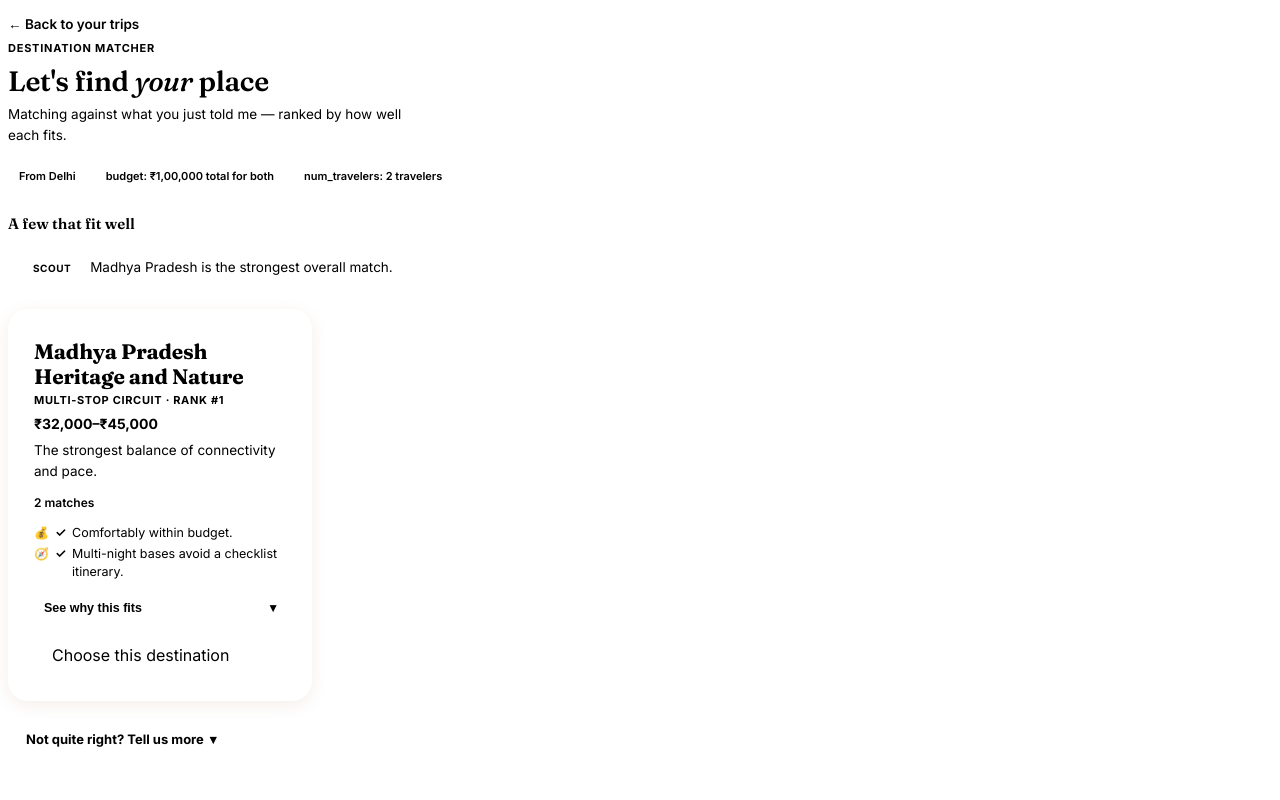
Test: Destinations (real Meridian integration) › the refinement drawer sends a plain traveler_message with the typed text
Expected: the button "Madhya Pradesh Heritage and Nature" is shown, [34,339,286,390]
Step 1. Click the button "Not quite right? Tell us more ▾" → (121,740), box [8,720,234,760]
(page scrolled)
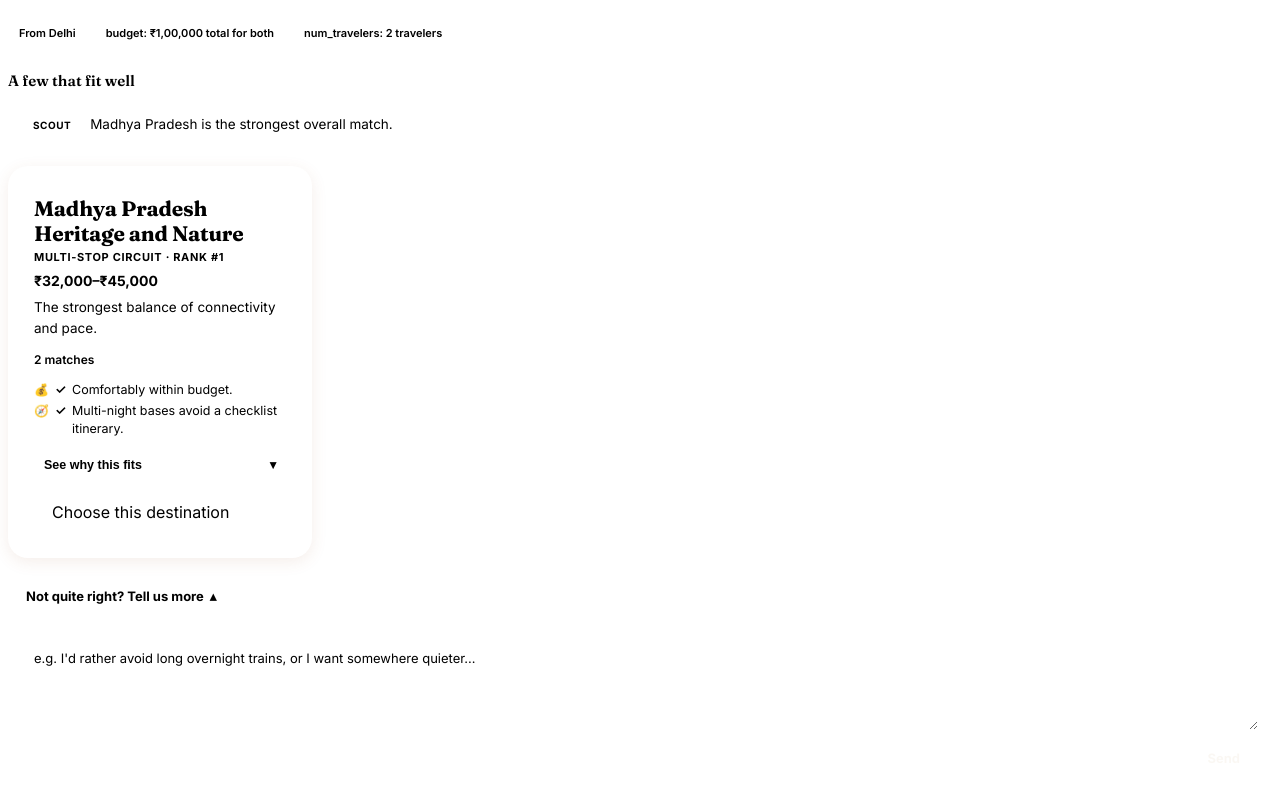
Step 2. Replace the text in the text box named "Tell us more" with "cheaper, closer" → (640,686), box [22,640,1258,730]
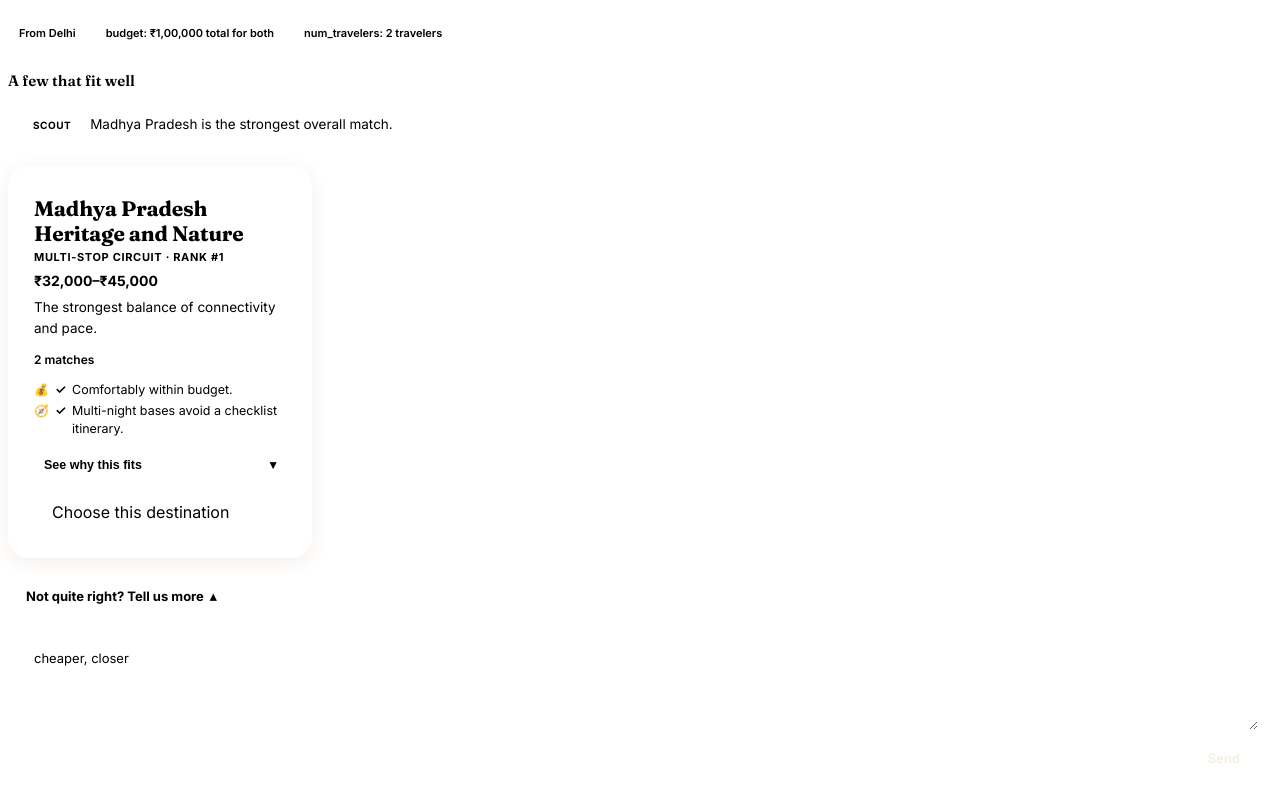
Step 3. Click the button "Send" → (1224,758), box [1190,738,1258,778]
(page scrolled)
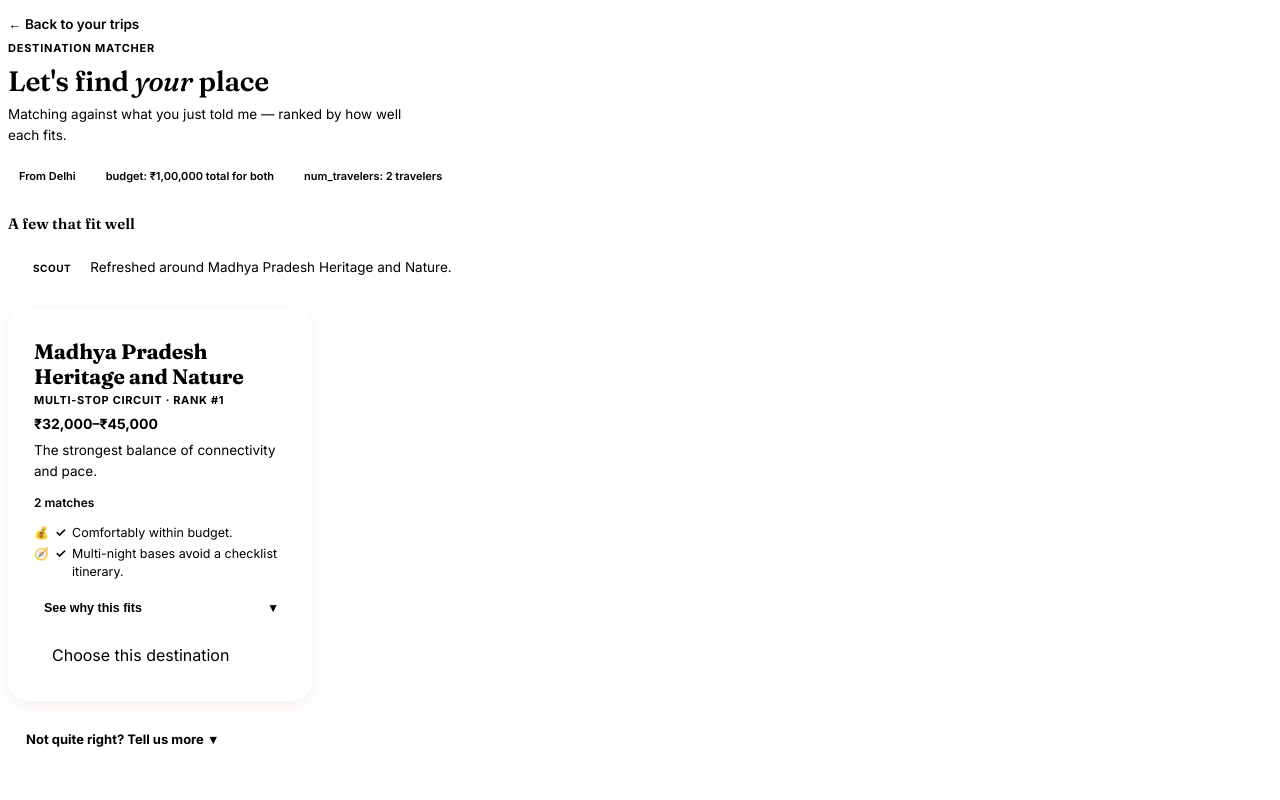
Result: the text "Refreshed around Madhya Pradesh Heritage and Nature." is shown at [90,257,452,277]
